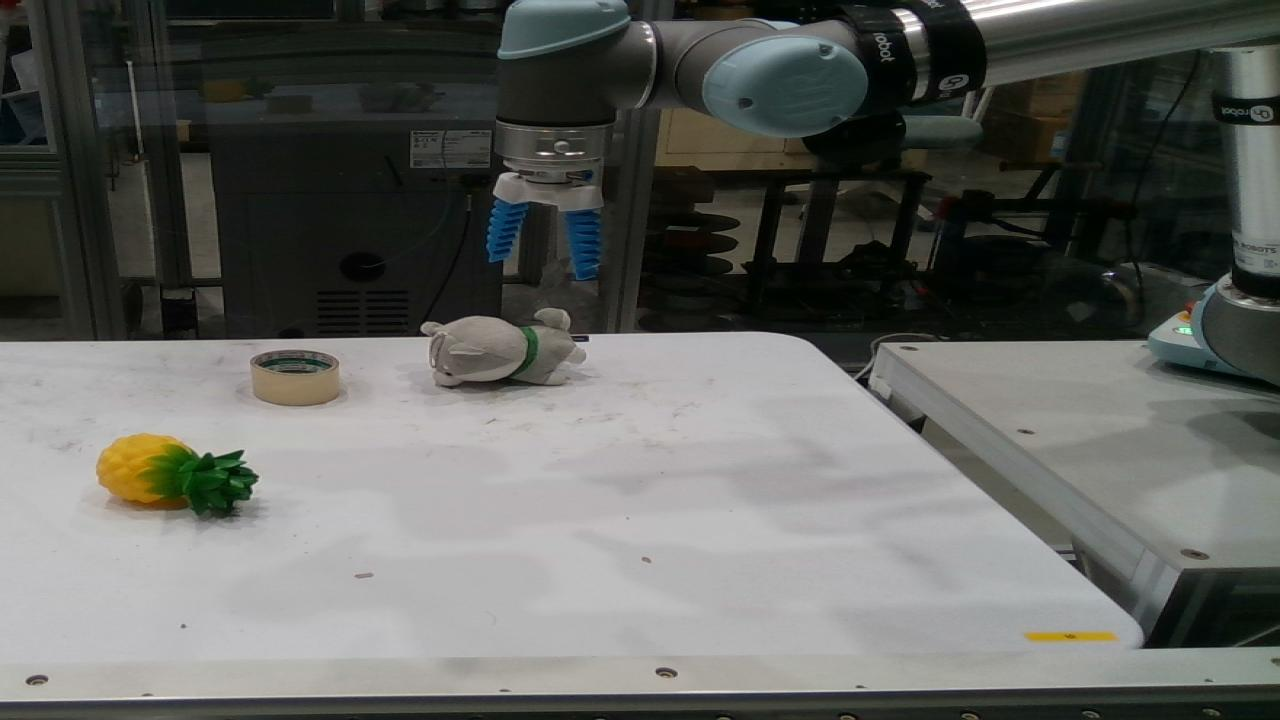UR5: (493, 0, 1279, 386)
gripper_left: (487, 199, 528, 262)
gripper_right: (564, 209, 600, 282)
target: (95, 433, 260, 518), (421, 308, 587, 388), (250, 349, 340, 405)
